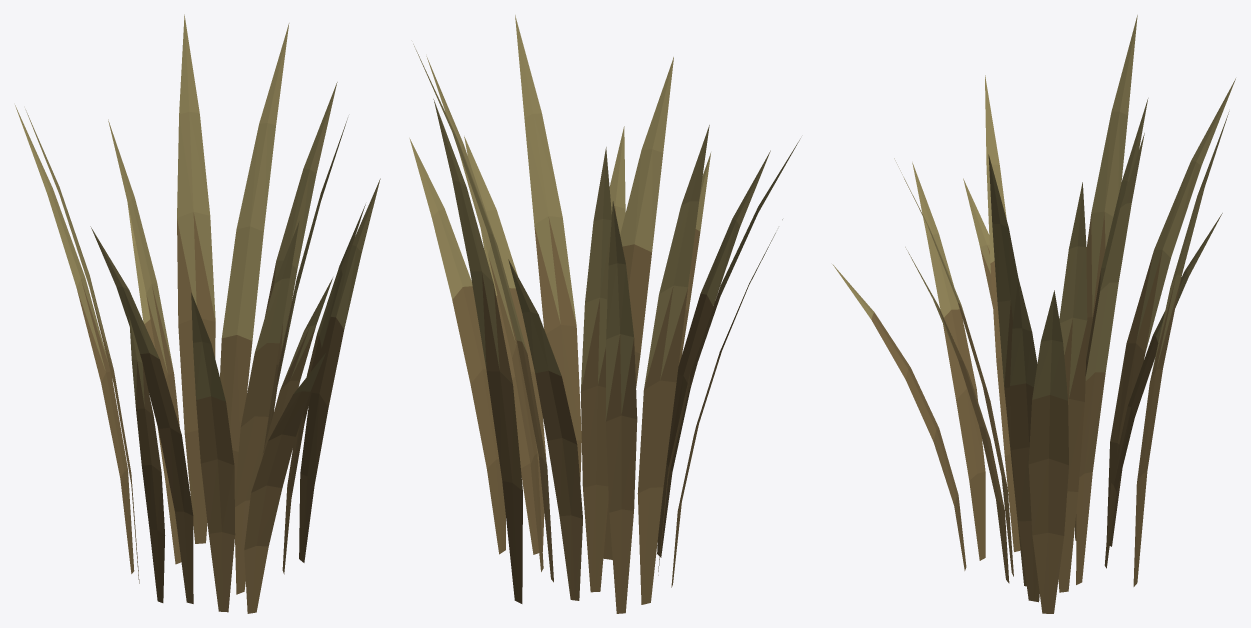
The model's file is grass_tuft_b_autumn.glb.
3 views of the same model, side by side, from view 1: azimuth 30°, elevation 25°; view 2: azimuth 150°, elevation 25°; view 3: azimuth 270°, elevation 25° (orthographic). The views are drawn at different scales.
Parts seen in each view (by area): view 1: geometry; view 2: geometry; view 3: geometry.
Part boxes in pixels (left/top/right/bottom): geometry: left=15, top=14, right=380, bottom=613; geometry: left=409, top=15, right=800, bottom=613; geometry: left=832, top=15, right=1235, bottom=613.
Bounding box in the file's own units: 0.2197 × 0.32 × 0.2352.
